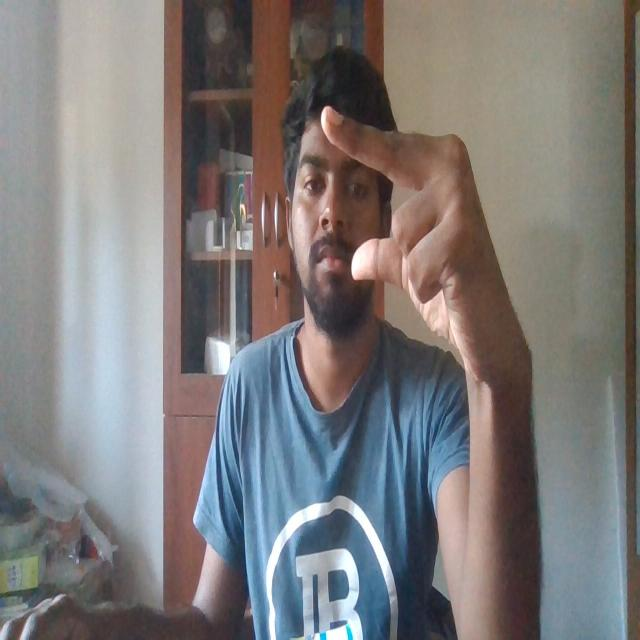No: (317, 91, 530, 382)
